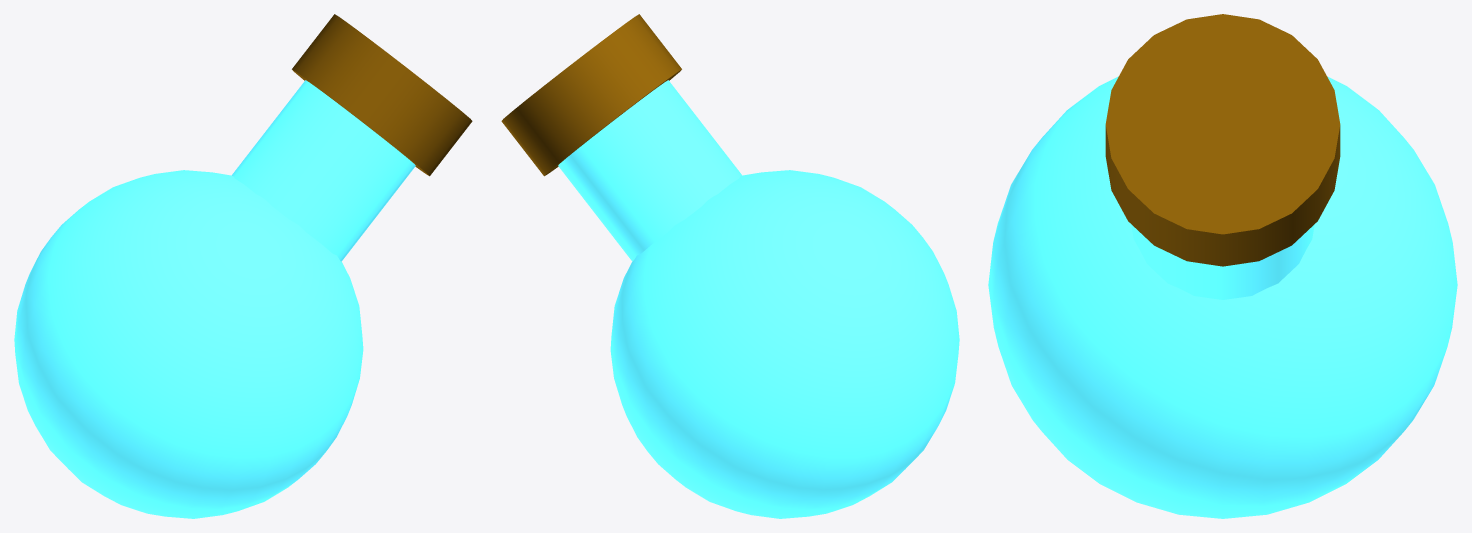
File: Boost Bottle.fbx
3 views of the same model, side by side, from view 1: azimuth 30°, elevation 25°; view 2: azimuth 150°, elevation 25°; view 3: azimuth 270°, elevation 25° (orthographic). The views are drawn at different scales.
Parts seen in each view (by area): view 1: Flask_Container, Flask_Tube, Flask_Cork; view 2: Flask_Container, Flask_Tube, Flask_Cork; view 3: Flask_Container, Flask_Cork, Flask_Tube.
Boxes of the visible parts, <box> form: Flask_Container: <box>14,170,363,518</box>; Flask_Tube: <box>231,80,415,261</box>; Flask_Cork: <box>292,14,472,176</box>; Flask_Container: <box>610,170,959,518</box>; Flask_Tube: <box>558,80,742,261</box>; Flask_Cork: <box>501,14,681,176</box>; Flask_Container: <box>988,76,1457,518</box>; Flask_Cork: <box>1105,14,1340,266</box>; Flask_Tube: <box>1131,224,1314,299</box>.
Size of the model in its own units: 69.27 by 69.27 by 50.
